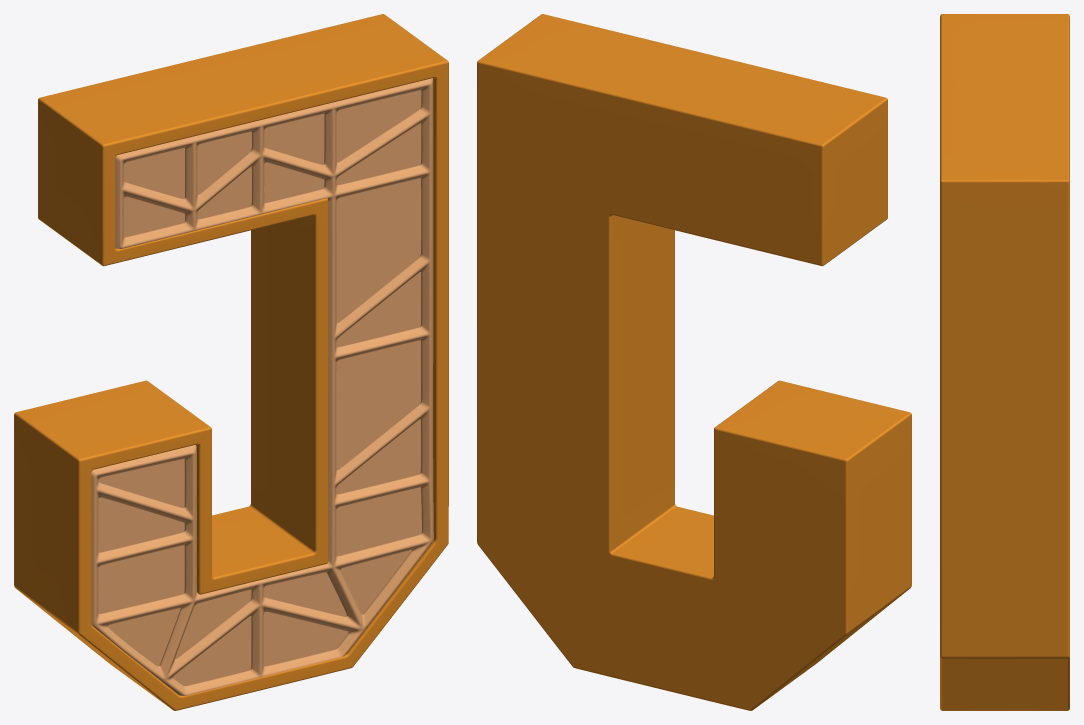
The model's file is J_nuevo.glb.
3 views of the same model, side by side, from view 1: azimuth 30°, elevation 25°; view 2: azimuth 150°, elevation 25°; view 3: azimuth 270°, elevation 25° (orthographic).
Visible parts, largest first — view 1: Text.010, Plane.011, Plane.035; view 2: Text.010; view 3: Text.010.
Part boxes in pixels (x1,y1,x2,y2): Text.010: (14, 14, 448, 710); Plane.011: (98, 90, 421, 685); Plane.035: (91, 78, 433, 695); Text.010: (477, 14, 911, 710); Text.010: (940, 14, 1069, 710).
Size of the model in its own units: 1.68 by 2.53 by 0.5146.
